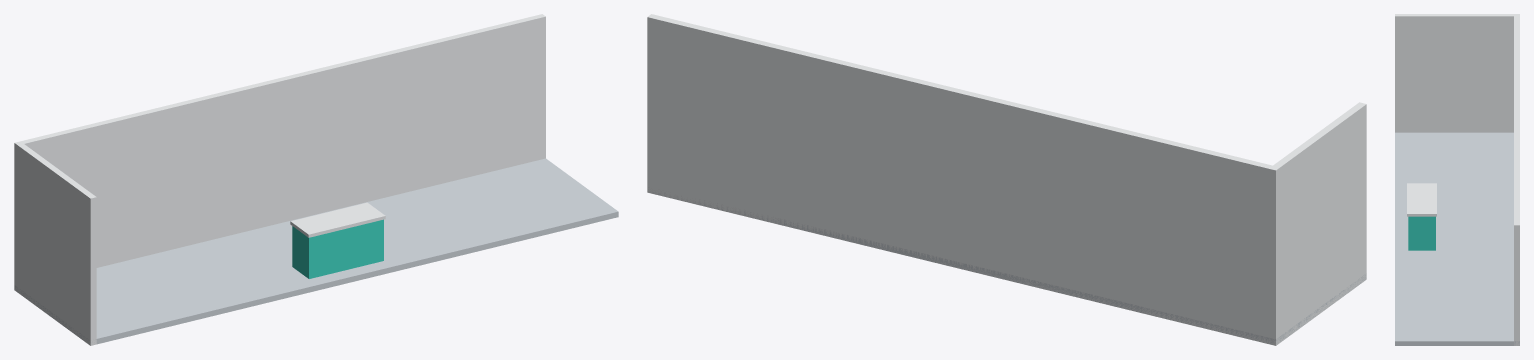
The picture shows the model from 3 angles, left to right: view 1: azimuth 30°, elevation 25°; view 2: azimuth 150°, elevation 25°; view 3: azimuth 270°, elevation 25°; orthographic projection. The views are drawn at different scales.
Parts seen in each view (by area): view 1: Exhibition Booth Concept; view 2: Exhibition Booth Concept; view 3: Exhibition Booth Concept.
Part boxes in pixels (x1,y1,x2,y2): Exhibition Booth Concept: (14, 14, 618, 345); Exhibition Booth Concept: (647, 14, 1366, 345); Exhibition Booth Concept: (1395, 14, 1519, 345).
Size of the model in its own units: 12 by 3.2 by 3.
